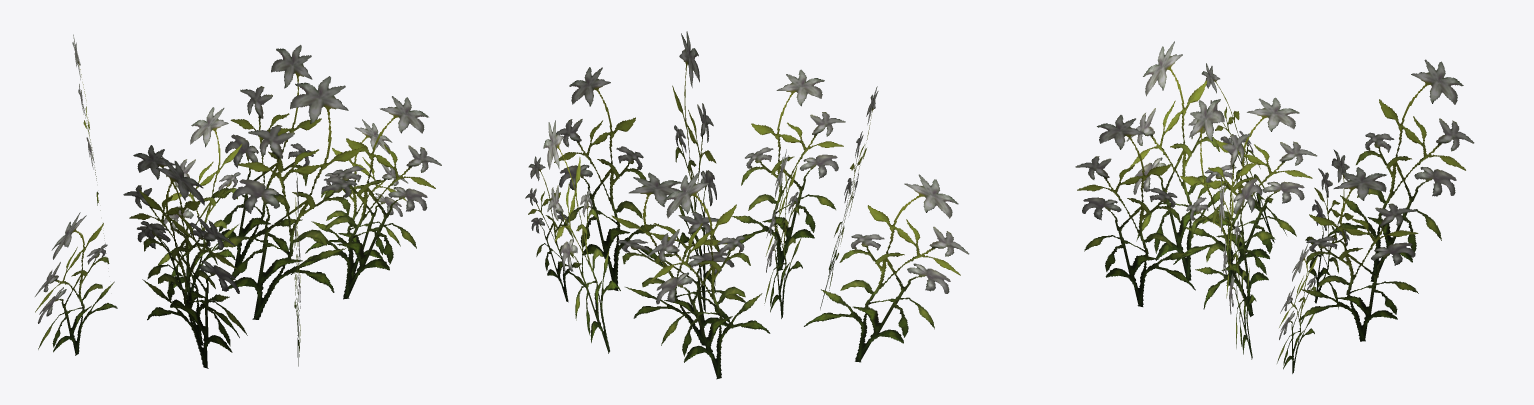
File: grass_07.fbx
3 renders of one model, left to right at view 1: azimuth 30°, elevation 25°; view 2: azimuth 150°, elevation 25°; view 3: azimuth 270°, elevation 25°, orthographic. The views are drawn at different scales.
Visible parts, largest first — view 1: polySurface163; view 2: polySurface163; view 3: polySurface163.
Boxes of the visible parts, box(x1,y1,x2,y2) form: polySurface163: box(35, 34, 441, 368); polySurface163: box(525, 31, 969, 379); polySurface163: box(1075, 41, 1474, 373).
Bounding box in the file's own units: 2.34 × 1.29 × 2.12.
